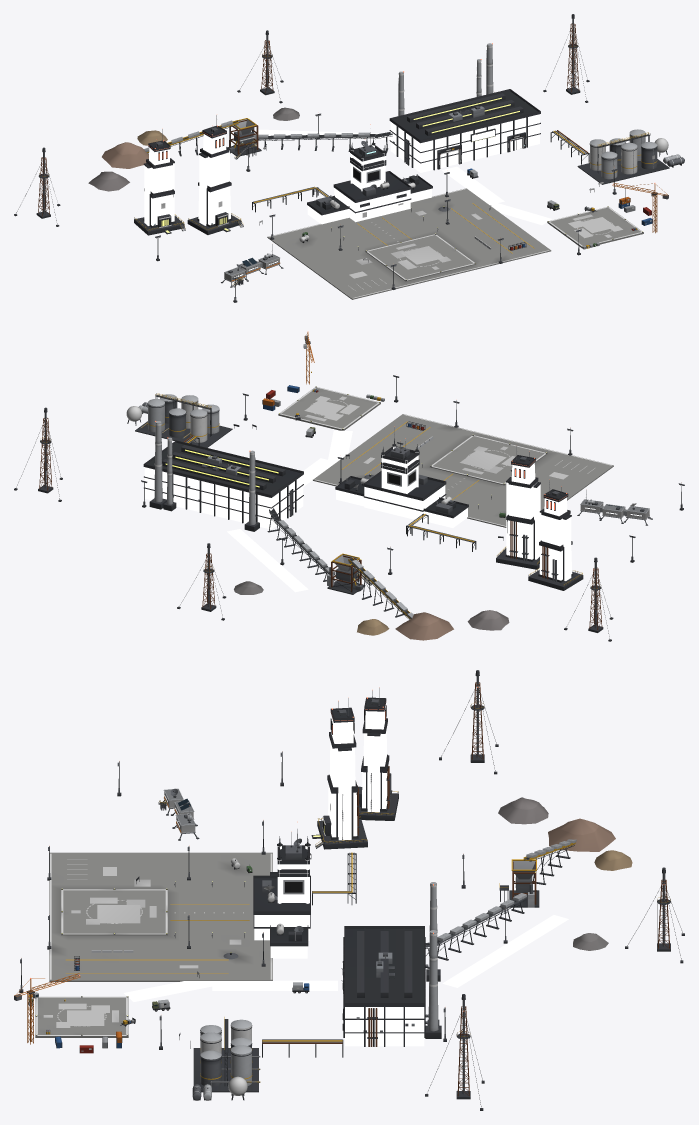
File: Schmelzwerk.8d6a0823d9.glb
3 views of the same model, one above another, from view 1: azimuth 30°, elevation 25°; view 2: azimuth 150°, elevation 25°; view 3: azimuth 270°, elevation 25° (orthographic). The views are drawn at different scales.
Parts seen in each view (by area): view 1: Schmelzwerk; view 2: Schmelzwerk; view 3: Schmelzwerk.
Part boxes in pixels (box(x1,y1,x2,y2)): Schmelzwerk: box(14, 14, 684, 302); Schmelzwerk: box(14, 331, 684, 641); Schmelzwerk: box(14, 670, 684, 1110).
Size of the model in its own units: 371 by 67.5 by 288.
